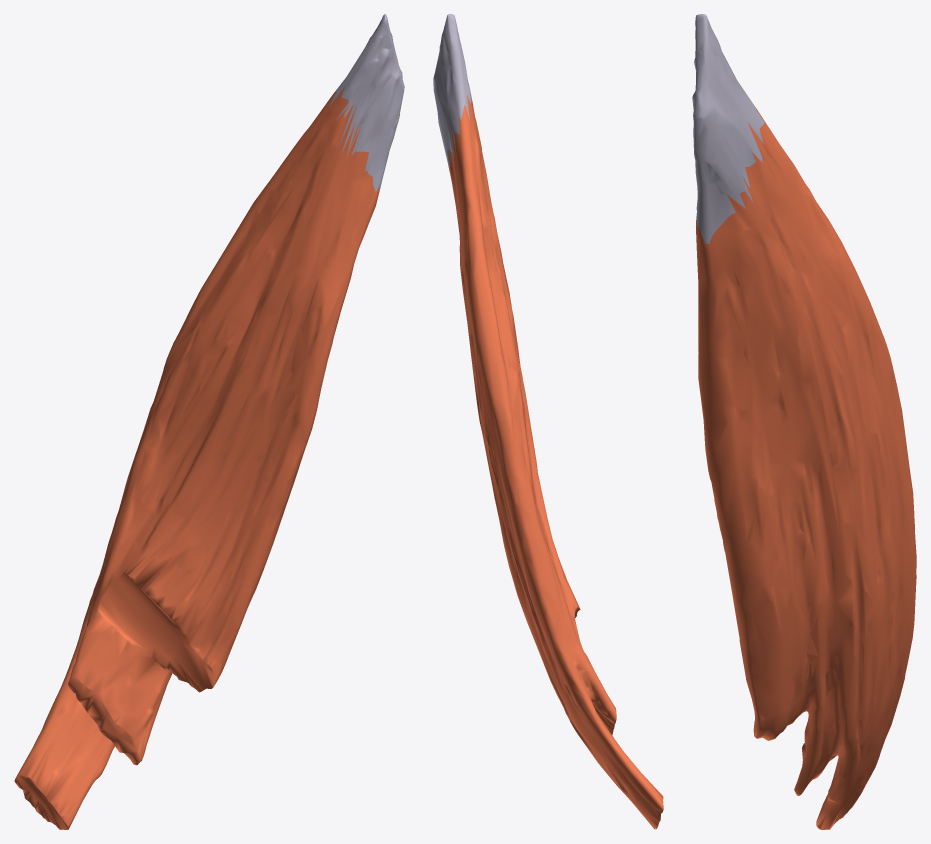
Rendered from Latissimus_dorsi_muscle.r.004_Generated_Mesh_From_X3D.396.glb.
3 renders of one model, left to right at view 1: azimuth 30°, elevation 25°; view 2: azimuth 150°, elevation 25°; view 3: azimuth 270°, elevation 25°, orthographic. The views are drawn at different scales.
Visible parts, largest first — view 1: Latissimus_dorsi_muscle.r.004_Generated_Mesh_From_X3D.396; view 2: Latissimus_dorsi_muscle.r.004_Generated_Mesh_From_X3D.396; view 3: Latissimus_dorsi_muscle.r.004_Generated_Mesh_From_X3D.396.
Part boxes in pixels (x1,y1,x2,y2): Latissimus_dorsi_muscle.r.004_Generated_Mesh_From_X3D.396: (14,14,404,829); Latissimus_dorsi_muscle.r.004_Generated_Mesh_From_X3D.396: (433,14,663,829); Latissimus_dorsi_muscle.r.004_Generated_Mesh_From_X3D.396: (692,14,916,829).
Size of the model in its own units: 0.1124 by 0.2638 by 0.0546.
